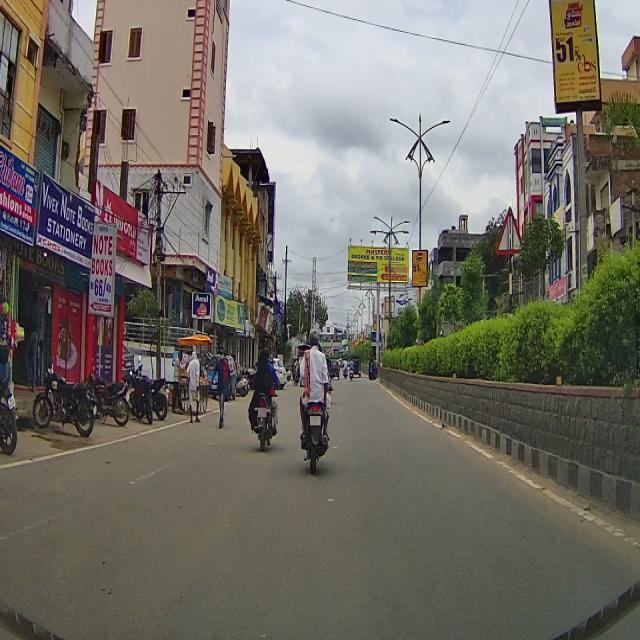motorcycle ahead at: (31, 363, 97, 443), (77, 368, 132, 436), (292, 389, 332, 477), (245, 381, 283, 456)
